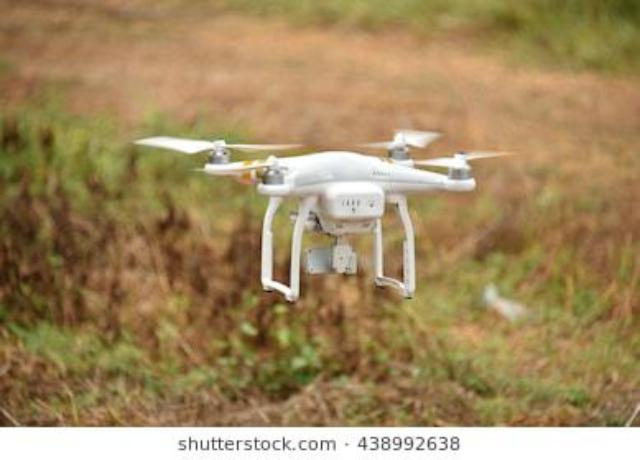drone: (0, 125, 640, 460)
